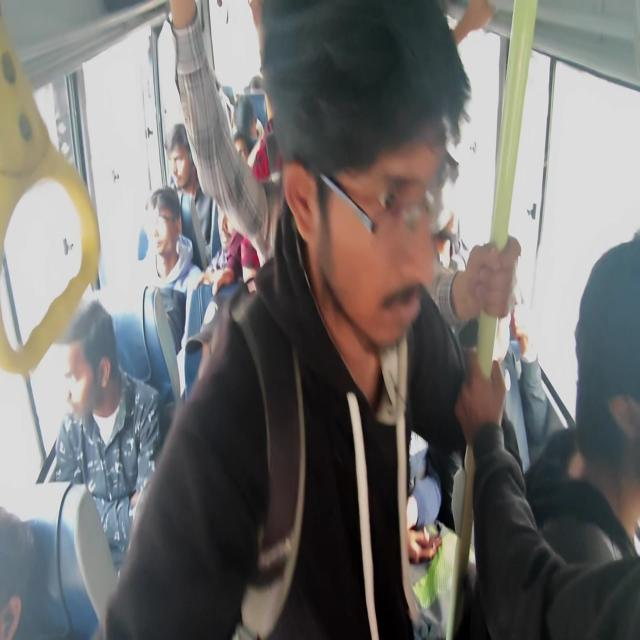person: (281, 22, 437, 306), (576, 273, 640, 597), (51, 298, 120, 412), (136, 188, 224, 270), (0, 516, 42, 631), (494, 256, 530, 354), (224, 179, 254, 268), (163, 125, 204, 178), (230, 103, 269, 131), (245, 66, 273, 98), (232, 134, 255, 172), (212, 76, 237, 95)
